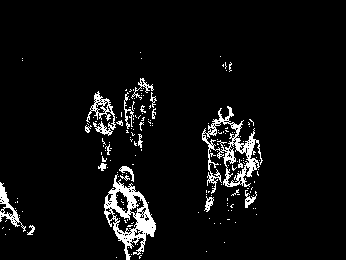person: (102, 164, 156, 260), (202, 103, 239, 218), (224, 117, 266, 213), (84, 91, 122, 171), (123, 78, 159, 152)
